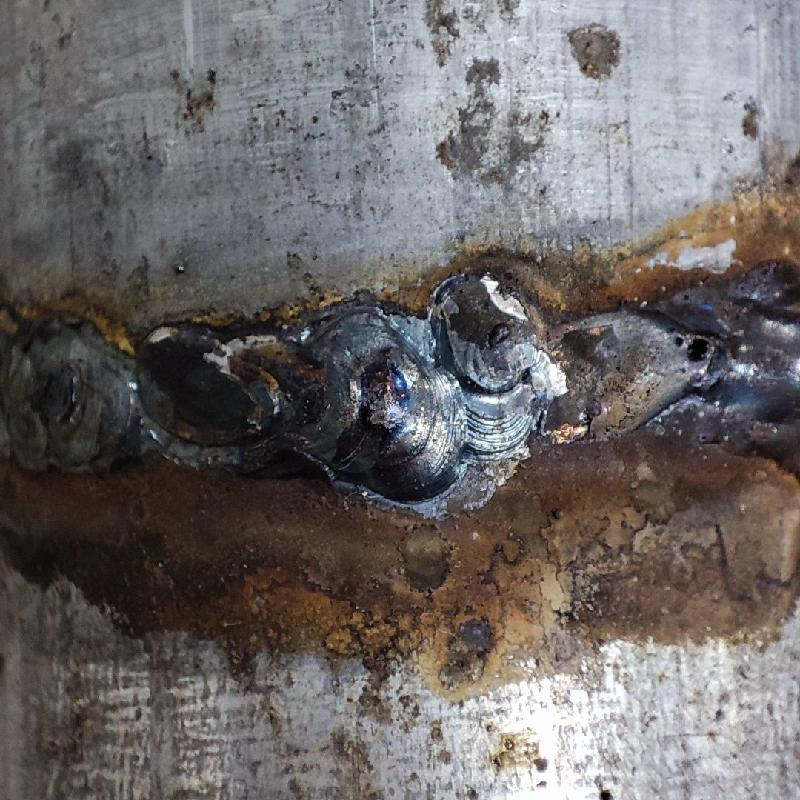Not_fully_soldered: (458, 258, 708, 463)
Surface_pores: (664, 325, 726, 378)
Weld: (691, 255, 799, 452)
wrong_size: (4, 294, 467, 523)
